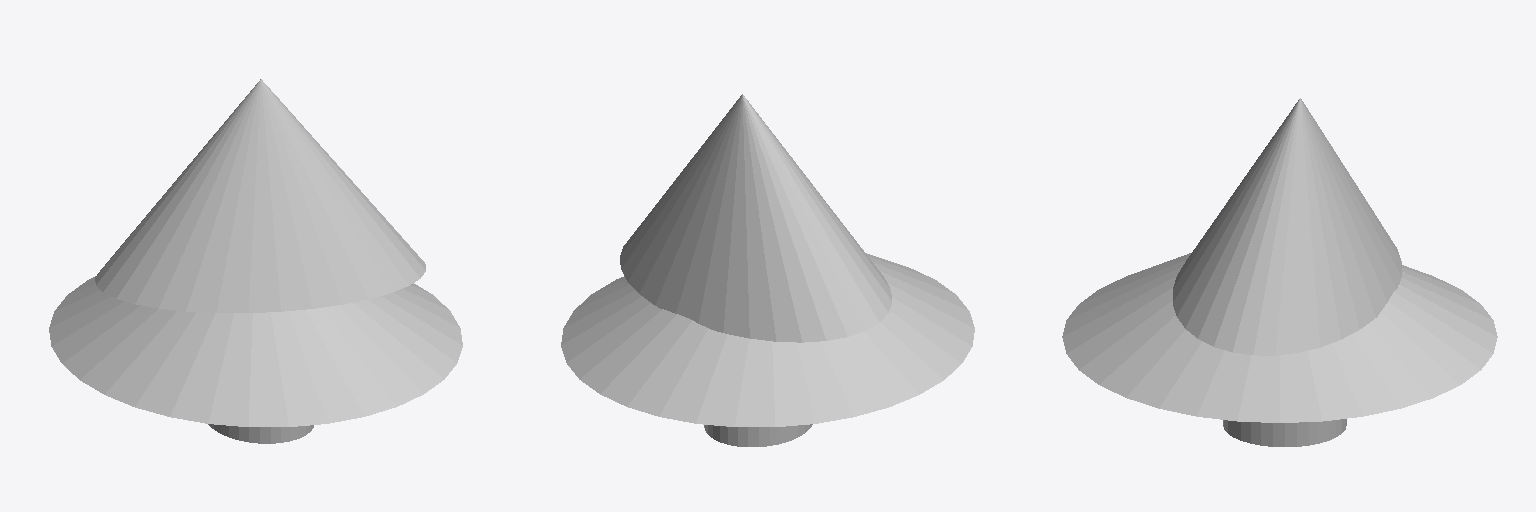
Rendered from arbol4.obj.
3 views of the same model, side by side, from view 1: azimuth 30°, elevation 25°; view 2: azimuth 150°, elevation 25°; view 3: azimuth 270°, elevation 25° (orthographic).
Visible parts, largest first — view 1: Cono, Cono.001, Cube; view 2: Cono, Cono.001, Cube; view 3: Cono, Cono.001, Cube.
Part boxes in pixels (x1,y1,x2,y2): Cono: (49,276,462,426); Cono.001: (95,79,425,312); Cube: (208,424,313,443); Cono: (561,253,974,426); Cono.001: (620,94,891,342); Cube: (704,424,812,446); Cono: (1062,253,1497,422); Cono.001: (1173,98,1401,355); Cube: (1223,419,1346,446).
Bounding box in the file's own units: 9.86 × 8.87 × 10.55.